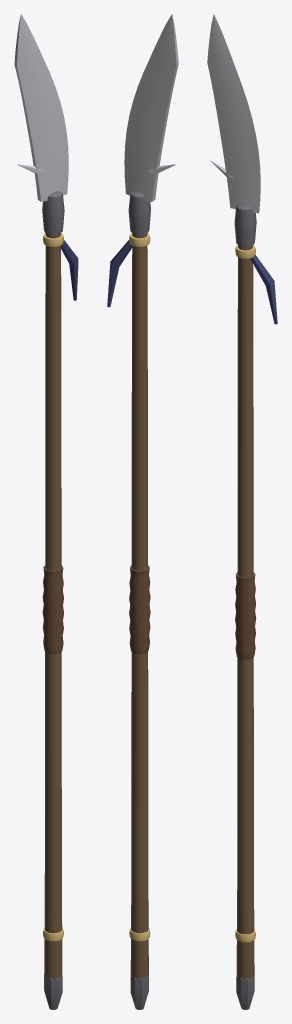
File: glaive.glb
3 renders of one model, left to right at view 1: azimuth 30°, elevation 25°; view 2: azimuth 150°, elevation 25°; view 3: azimuth 330°, elevation 25°, orthographic.
Parts seen in each view (by area): view 1: glaive; view 2: glaive; view 3: glaive.
Boxes of the visible parts, x1,y1,x2,y2 form: glaive: (14,14,78,1009); glaive: (107,14,178,1009); glaive: (207,14,277,1009).
Size of the model in its own units: 0.1655 by 2.41 by 0.047.
